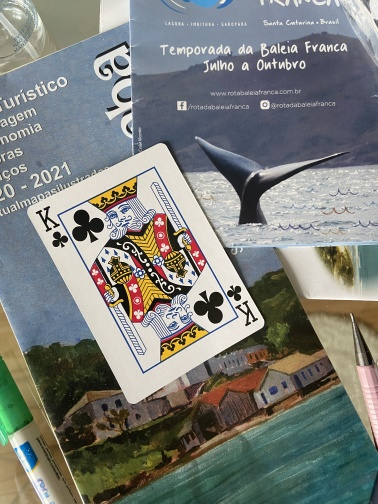king: (26, 142, 266, 407)
